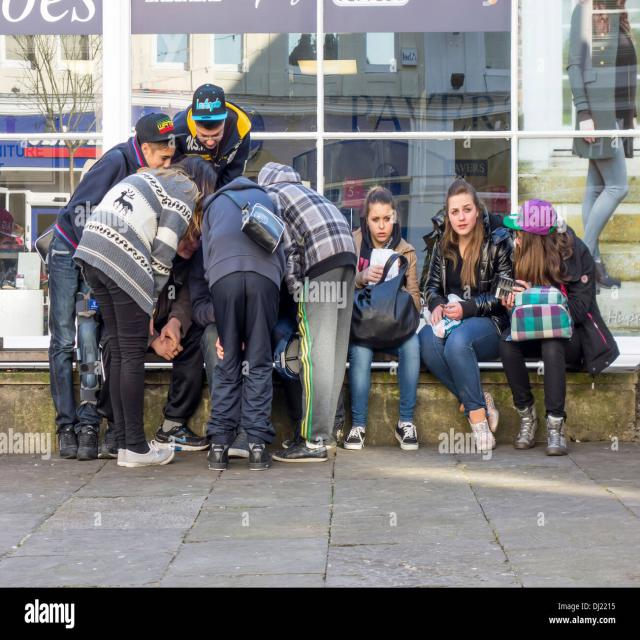loitering: (86, 130, 215, 466), (252, 156, 366, 467), (486, 199, 624, 441), (188, 161, 292, 463), (416, 178, 512, 461), (350, 176, 433, 459), (82, 88, 192, 259), (142, 63, 272, 195)
